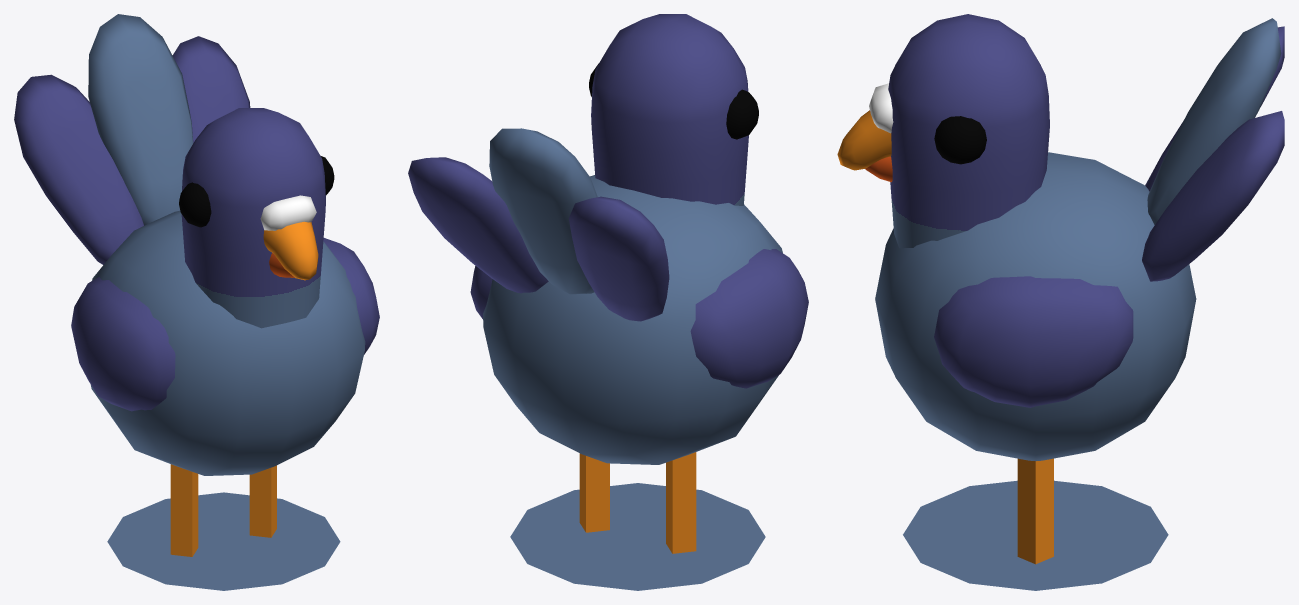
The model's file is mesh_pidgeon.fbx.
3 renders of one model, left to right at view 1: azimuth 30°, elevation 25°; view 2: azimuth 150°, elevation 25°; view 3: azimuth 270°, elevation 25°, orthographic. The views are drawn at different scales.
Visible parts, largest first — view 1: mesh_body, mesh_tail, mesh_head, mesh_shadow, mesh_wings, mesh_face, mesh_legs; view 2: mesh_body, mesh_tail, mesh_head, mesh_shadow, mesh_wings, mesh_legs, mesh_face; view 3: mesh_body, mesh_head, mesh_wings, mesh_tail, mesh_shadow, mesh_face, mesh_legs.
Part boxes in pixels (x1,y1,x2,y2): mesh_body: [91, 210, 365, 475]; mesh_tail: [14, 14, 250, 264]; mesh_head: [181, 108, 325, 328]; mesh_shadow: [107, 492, 340, 590]; mesh_wings: [71, 238, 379, 411]; mesh_face: [179, 156, 334, 280]; mesh_legs: [170, 464, 276, 556]; mesh_body: [483, 175, 782, 464]; mesh_tail: [408, 128, 669, 321]; mesh_head: [591, 14, 748, 205]; mesh_shadow: [510, 483, 765, 590]; mesh_wings: [470, 249, 808, 388]; mesh_legs: [579, 452, 696, 553]; mesh_face: [589, 63, 758, 139]; mesh_body: [875, 152, 1196, 461]; mesh_head: [888, 14, 1049, 248]; mesh_wings: [934, 276, 1133, 407]; mesh_tail: [1142, 18, 1284, 281]; mesh_shadow: [903, 480, 1168, 590]; mesh_face: [837, 83, 986, 182]; mesh_legs: [1017, 458, 1053, 564].
Size of the model in its own units: 0.499 by 0.774 by 0.6112.
Materials: 1 (1 with a texture image).
